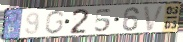2: (70, 8, 91, 35)
5: (93, 8, 113, 33)
6: (121, 6, 140, 33)
9: (24, 11, 42, 36)
G: (44, 10, 66, 35)
V: (142, 4, 167, 33)
